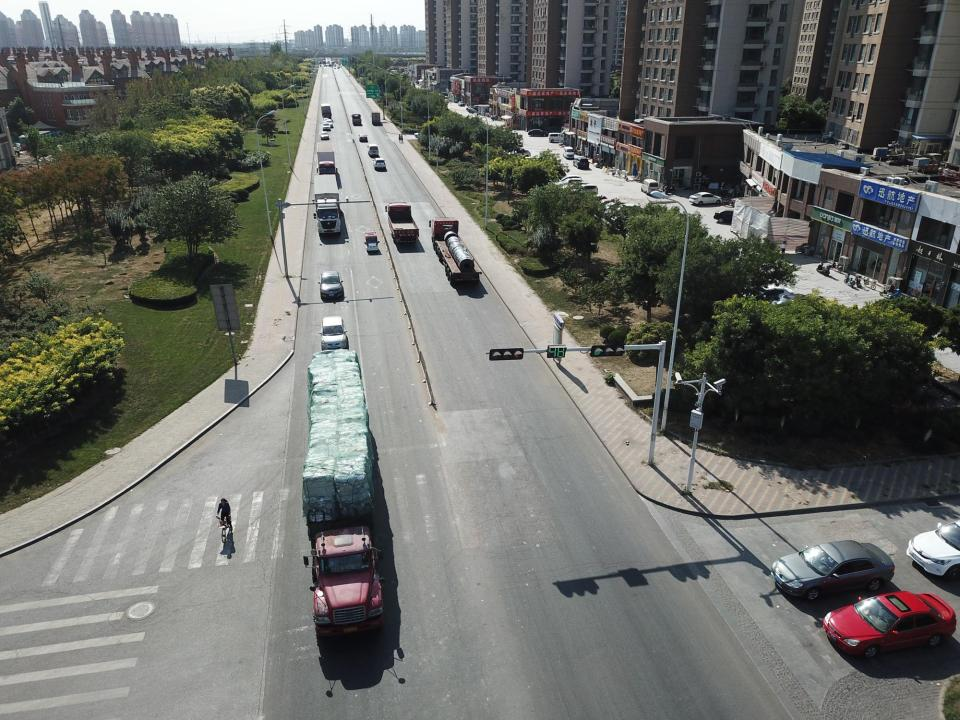car: (824, 591, 956, 658), (770, 540, 896, 600), (906, 513, 960, 581), (763, 294, 817, 314), (740, 284, 794, 304), (317, 271, 343, 297), (713, 209, 746, 224), (689, 192, 722, 206), (364, 229, 379, 250), (506, 148, 531, 160), (528, 129, 548, 136), (780, 241, 786, 259), (414, 132, 431, 138), (466, 105, 478, 112), (320, 131, 329, 140), (470, 104, 483, 110), (358, 134, 368, 141), (432, 94, 446, 99), (468, 107, 480, 112), (458, 100, 465, 106)
truck: (303, 348, 387, 637), (429, 217, 483, 283), (314, 174, 344, 233), (385, 202, 419, 243), (317, 142, 337, 179), (320, 103, 332, 120), (350, 113, 362, 125), (370, 112, 380, 124)
van: (318, 316, 347, 351), (604, 204, 640, 219), (583, 198, 615, 214), (576, 196, 608, 212), (611, 212, 646, 226), (568, 184, 598, 200), (595, 202, 627, 216), (555, 178, 585, 192), (552, 175, 582, 187), (559, 182, 586, 195), (640, 178, 658, 196), (573, 157, 589, 169), (548, 132, 567, 142), (373, 157, 386, 169), (563, 146, 575, 159), (366, 144, 378, 156), (322, 122, 330, 130), (326, 119, 333, 128), (440, 92, 450, 98), (322, 117, 329, 124), (301, 53, 306, 55)
